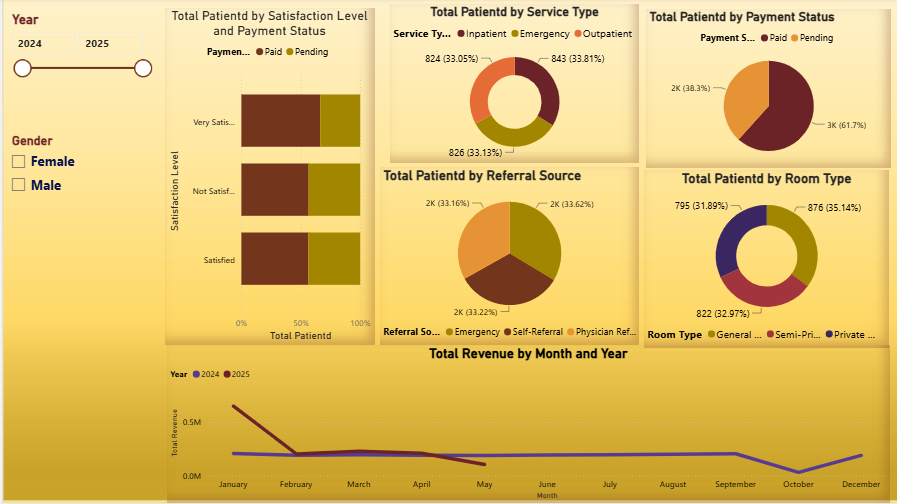

The page's visual inventory and layout, read from the dashboard file:
{"tool":"powerbi","page":{"name":"more details","canvas":[1280,720],"ordinal":2},"visuals":[{"type":"pieChart","fields":{"Y":["cities.Total Patientd"],"Category":["visits.Payment Status"]},"box":[917.1,16.1,350.4,227],"z":0},{"type":"pieChart","fields":{"Y":["cities.Total Patientd"],"Category":["visits.Referral Source"]},"box":[538.1,241.3,370.1,253.9],"z":1000},{"type":"donutChart","fields":{"Category":["visits.Room Type"],"Y":["cities.Total Patientd"]},"box":[915.3,244.9,350.4,253.9],"z":2000},{"type":"donutChart","fields":{"Y":["cities.Total Patientd"],"Category":["visits.Service Type"]},"box":[552.4,8.9,355.8,227],"z":3000},{"type":"lineChart","fields":{"Category":["visits.Date of Visit.Variation.Date Hierarchy.Month"],"Y":["cities.Total Revenue"],"Series":["visits.Date of Visit.Variation.Date Hierarchy.Year"]},"box":[234.2,495.2,1031.5,225.3],"z":4000},{"type":"hundredPercentStackedBarChart","fields":{"Category":["visits.Satisfaction Level"],"Y":["cities.Total Patientd"],"Series":["visits.Payment Status"]},"box":[230.6,14.3,298.5,480.9],"z":5000},{"type":"slicer","fields":{"Values":["visits.Date of Visit.Variation.Date Hierarchy.Year"]},"box":[0,14.3,221.7,152],"z":6000},{"type":"slicer","fields":{"Values":["patients.Gender"]},"box":[0,187.7,221.7,105.5],"z":7000}]}

Visuals, with their boxes in screenshot pixels (x1, y1, x2, y2), scaled from the page's 1280x720 canvas onto the 897x504 screenshot:
pieChart - cities.Total Patientd x visits.Payment Status: {"left": 643, "top": 11, "right": 888, "bottom": 170}
pieChart - cities.Total Patientd x visits.Referral Source: {"left": 377, "top": 169, "right": 636, "bottom": 347}
donutChart - visits.Room Type x cities.Total Patientd: {"left": 641, "top": 171, "right": 887, "bottom": 349}
donutChart - cities.Total Patientd x visits.Service Type: {"left": 387, "top": 6, "right": 636, "bottom": 165}
lineChart - visits.Date of Visit.Variation.Date Hierarchy.Month x cities.Total Revenue: {"left": 164, "top": 347, "right": 887, "bottom": 503}
hundredPercentStackedBarChart - visits.Satisfaction Level x cities.Total Patientd: {"left": 162, "top": 10, "right": 371, "bottom": 347}
slicer - visits.Date of Visit.Variation.Date Hierarchy.Year: {"left": 0, "top": 10, "right": 155, "bottom": 116}
slicer - patients.Gender: {"left": 0, "top": 131, "right": 155, "bottom": 205}
